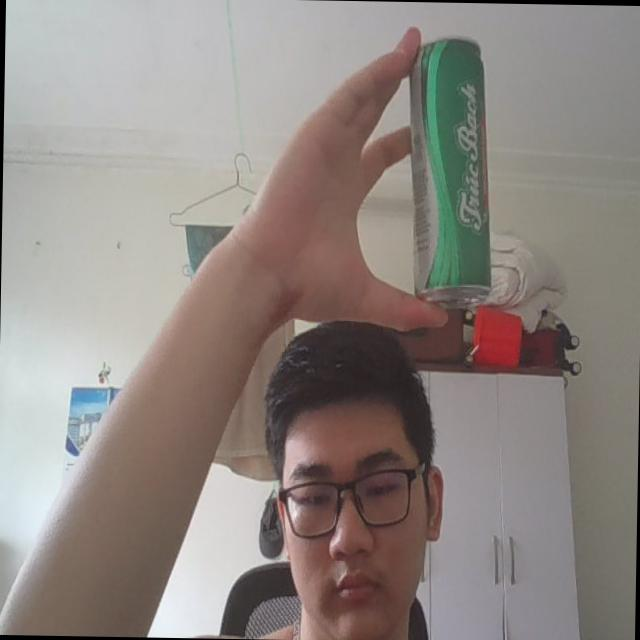Bia-Truc-Bach: (402, 29, 498, 310)
